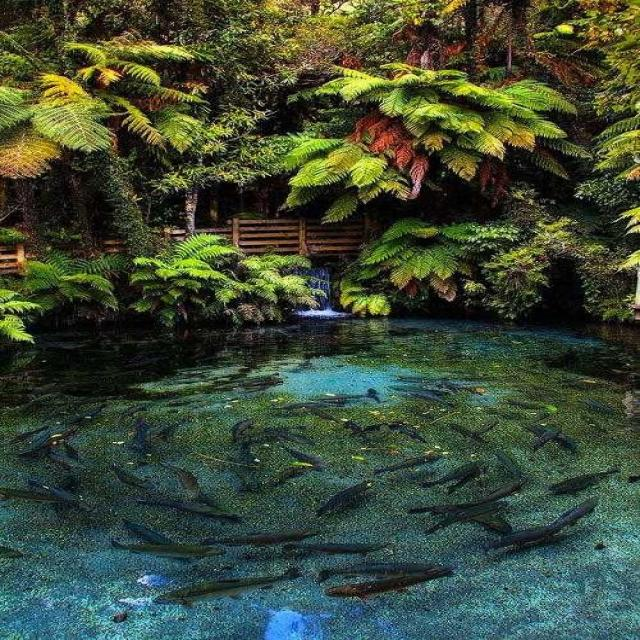Ponds: (9, 301, 639, 640)
